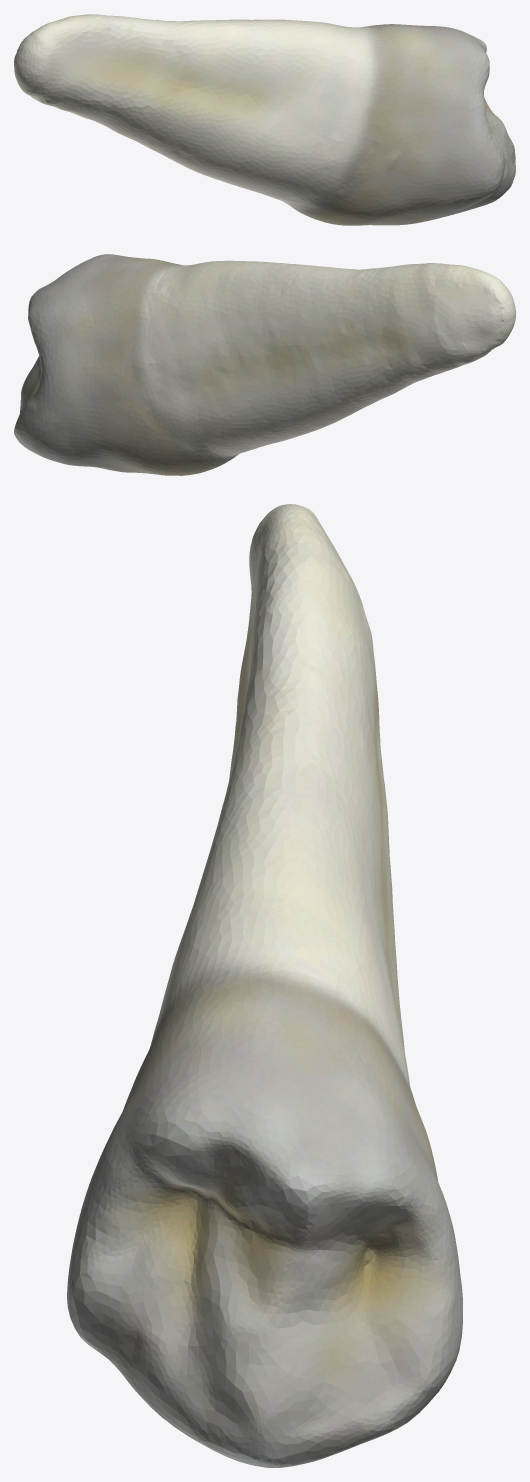
The model's file is 44 -  primeiro premolar inferior direito.glb.
3 renders of one model, top to bottom at view 1: azimuth 30°, elevation 25°; view 2: azimuth 150°, elevation 25°; view 3: azimuth 270°, elevation 25°, orthographic. The views are drawn at different scales.
Visible parts, largest first — view 1: 3MFMeshParent_0; view 2: 3MFMeshParent_0; view 3: 3MFMeshParent_0.
Boxes of the visible parts, left/top/right/bottom form: 3MFMeshParent_0: left=14, top=14, right=515, bottom=225; 3MFMeshParent_0: left=14, top=254, right=515, bottom=475; 3MFMeshParent_0: left=67, top=504, right=462, bottom=1467.
Bounding box in the file's own units: 0.512 × 0.2774 × 0.1795.
1 material, 1 textured.
